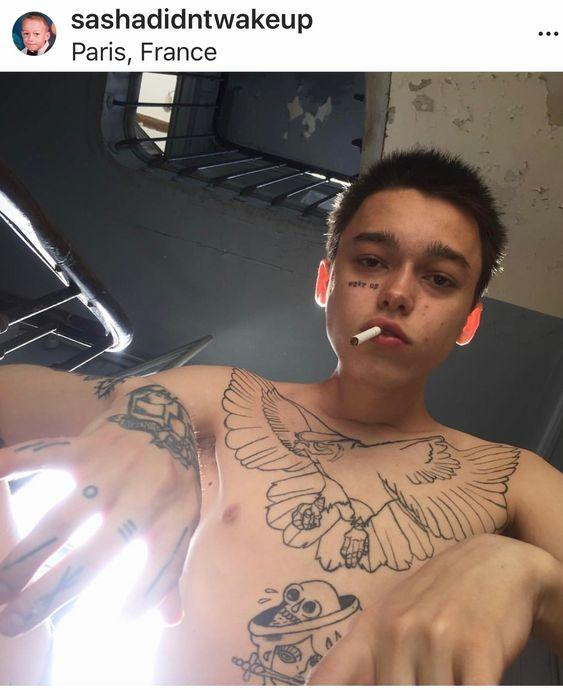cigarette: (350, 325, 382, 345)
